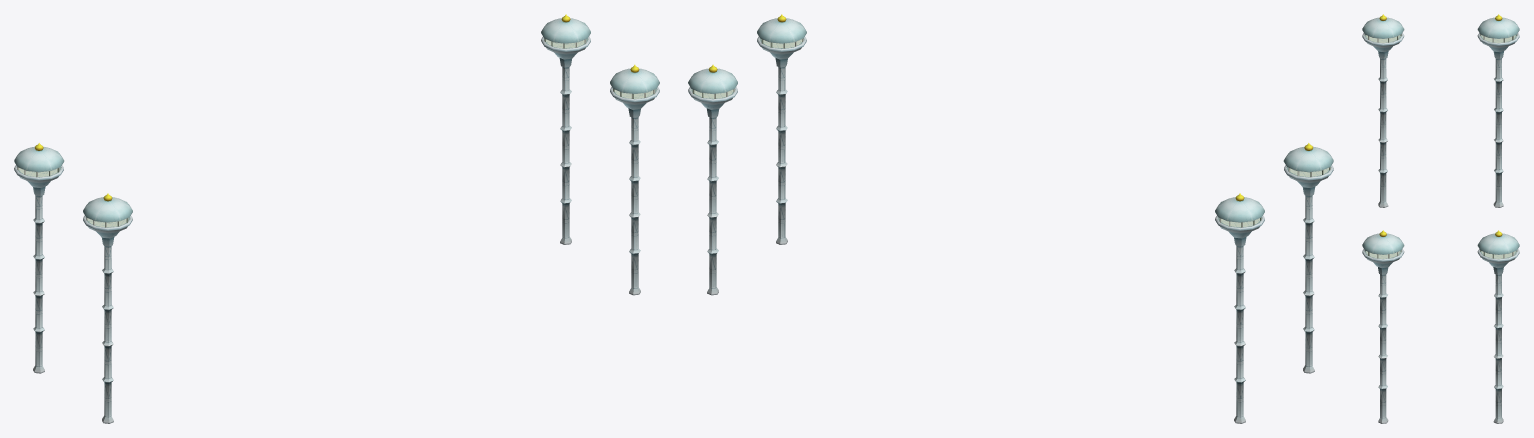
File: shendian_fushujianzhu.FBX
3 views of the same model, side by side, from view 1: azimuth 30°, elevation 25°; view 2: azimuth 150°, elevation 25°; view 3: azimuth 270°, elevation 25° (orthographic). The views are drawn at different scales.
Visible parts, largest first — view 1: shendian_zhudian2_2, shendian_zhudian1_2; view 2: shendian_zhudian2_2, shendian_zhudian1_2; view 3: shendian_zhudian2_2, shendian_zhudian1_2.
Part boxes in pixels (bbox=[...]): shendian_zhudian2_2: bbox=[14, 14, 659, 423]; shendian_zhudian1_2: bbox=[16, 38, 657, 227]; shendian_zhudian2_2: bbox=[688, 14, 1333, 423]; shendian_zhudian1_2: bbox=[690, 38, 1331, 227]; shendian_zhudian2_2: bbox=[1362, 14, 1519, 423]; shendian_zhudian1_2: bbox=[1364, 34, 1517, 259].
Bounding box in the file's own units: 7898 × 3024 × 2250.
